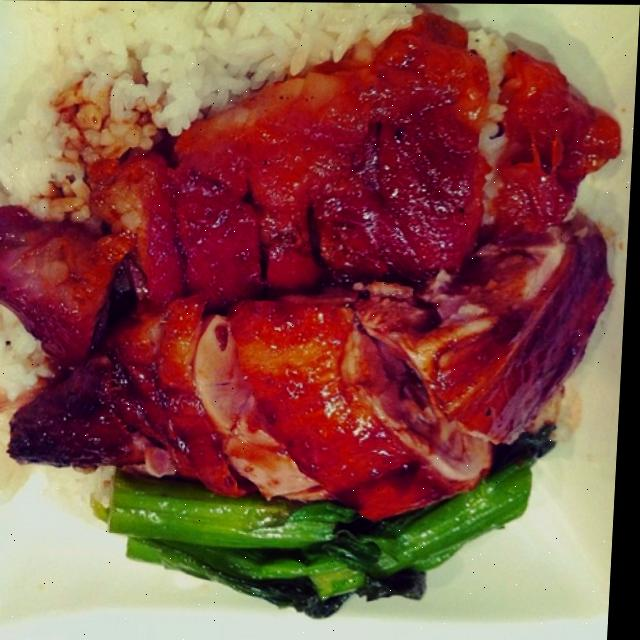烧串烤肉: (0, 8, 628, 589)
